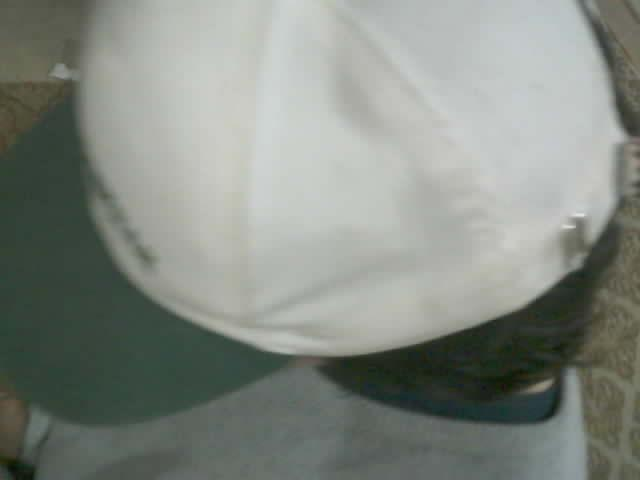cap: (0, 0, 628, 428)
